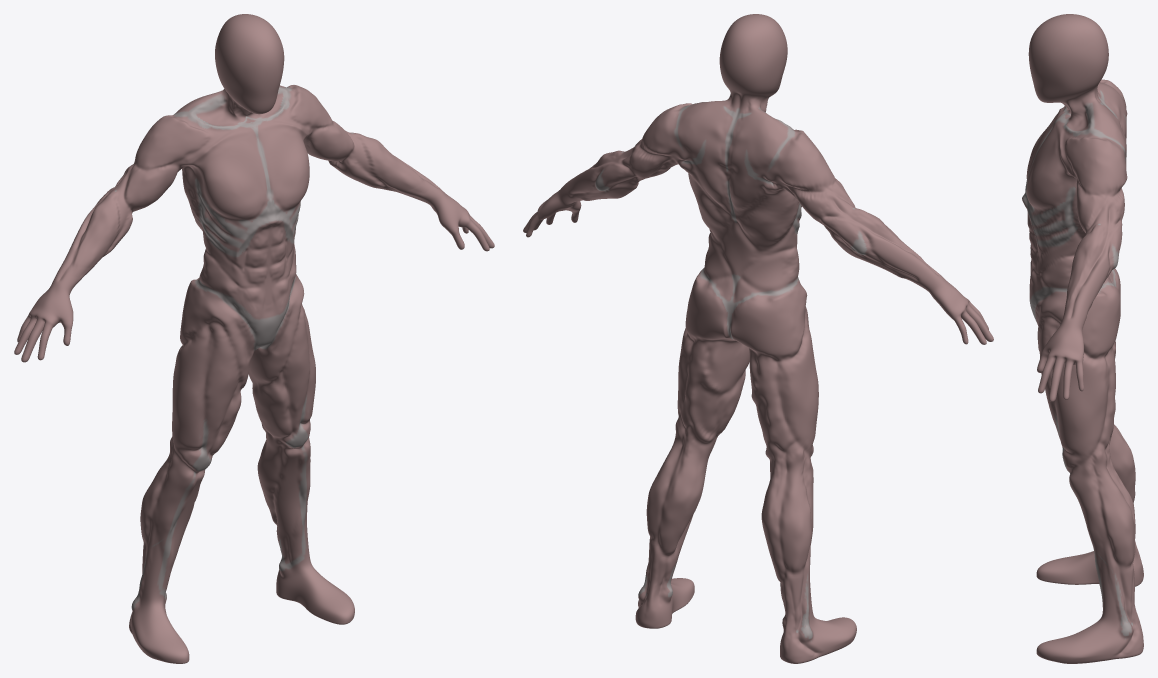
The model's file is body.glb.
The picture shows the model from 3 angles, left to right: view 1: azimuth 30°, elevation 25°; view 2: azimuth 150°, elevation 25°; view 3: azimuth 270°, elevation 25°; orthographic projection. The views are drawn at different scales.
Visible parts, largest first — view 1: BaseMesh_Low_Res_Detailed_Male_Female_BaseMesh_Low_Res_Detai (×5); view 2: BaseMesh_Low_Res_Detailed_Male_Female_BaseMesh_Low_Res_Detai (×5); view 3: BaseMesh_Low_Res_Detailed_Male_Female_BaseMesh_Low_Res_Detai (×5).
Boxes of the visible parts, x1,y1,x2,y2 form: BaseMesh_Low_Res_Detailed_Male_Female_BaseMesh_Low_Res_Detai (×5): (14, 14, 494, 663); BaseMesh_Low_Res_Detailed_Male_Female_BaseMesh_Low_Res_Detai (×5): (523, 14, 993, 663); BaseMesh_Low_Res_Detailed_Male_Female_BaseMesh_Low_Res_Detai (×5): (1022, 14, 1143, 663).
Size of the model in its own units: 1.43 by 1.78 by 0.3279.
